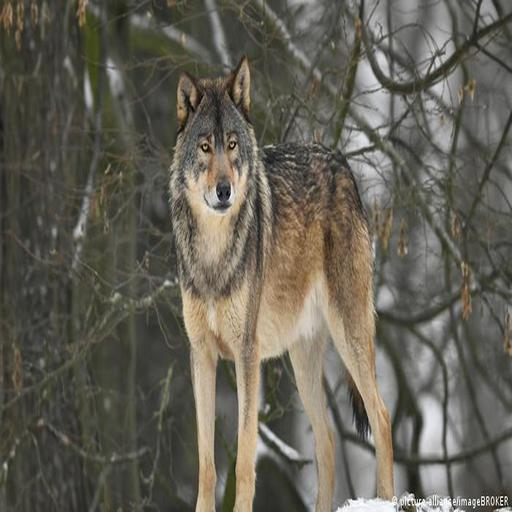Wolf: (169, 56, 394, 508)
